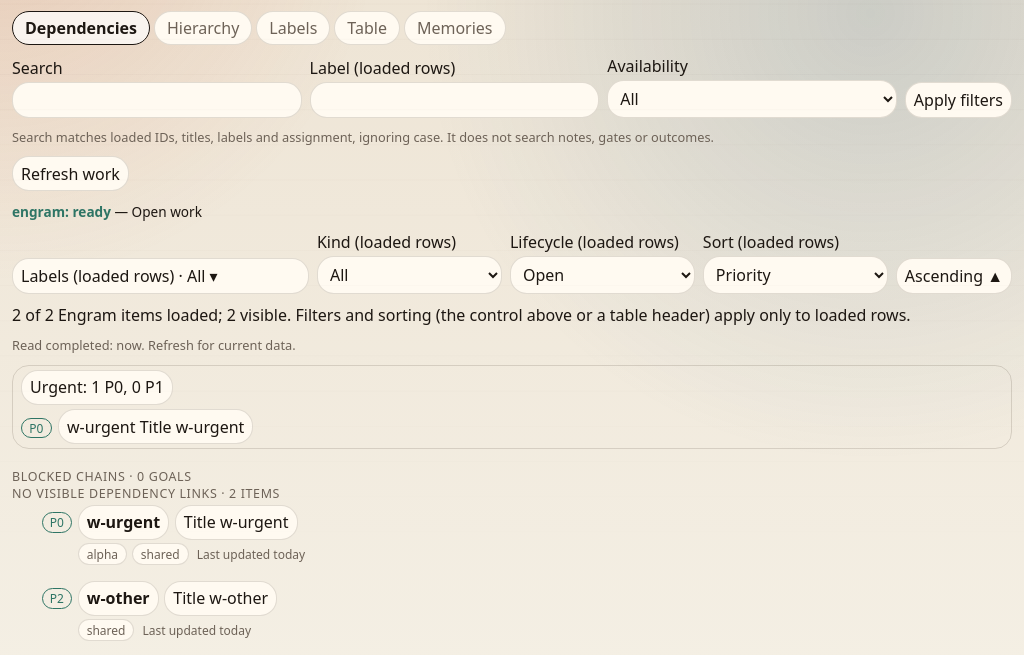
Test: Urgent strip reveal of hidden rows › expands the item's label group after Collapse all labels and opens its details there
Step 1. Click the button "Labels" → (293,28), box [256,11,330,45]
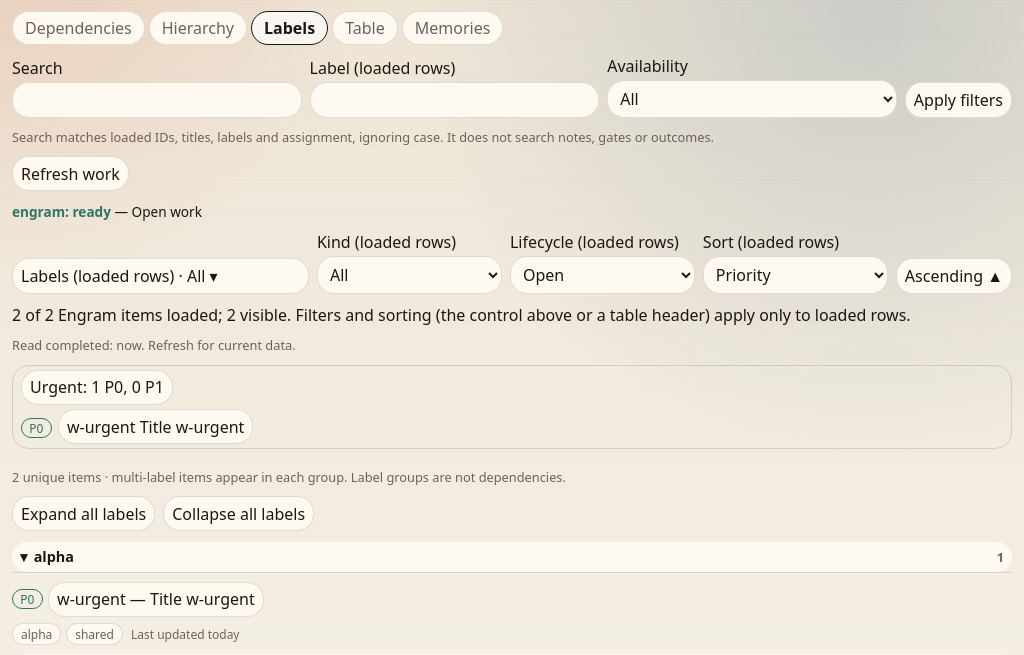
Step 2. Click the button "Collapse all labels" → (239,514), box [163,496,314,531]
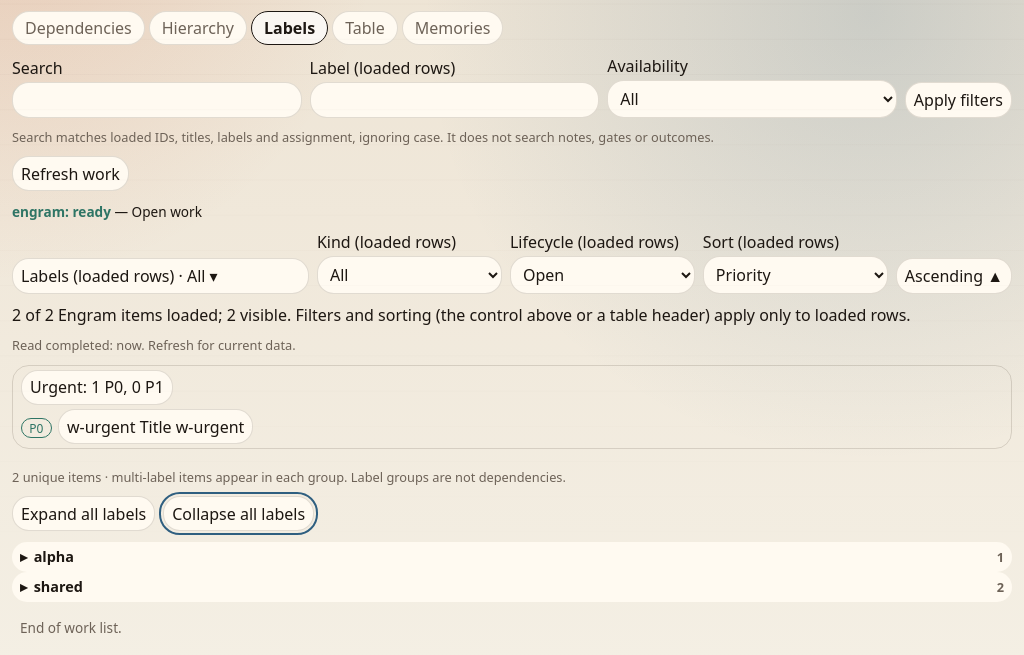
expect the button "w-urgent — Title w-urgent" is gone: met
Step 3. Click the button "w-urgent Title w-urgent" → (156,427), box [58,409,253,444]
(page scrolled)
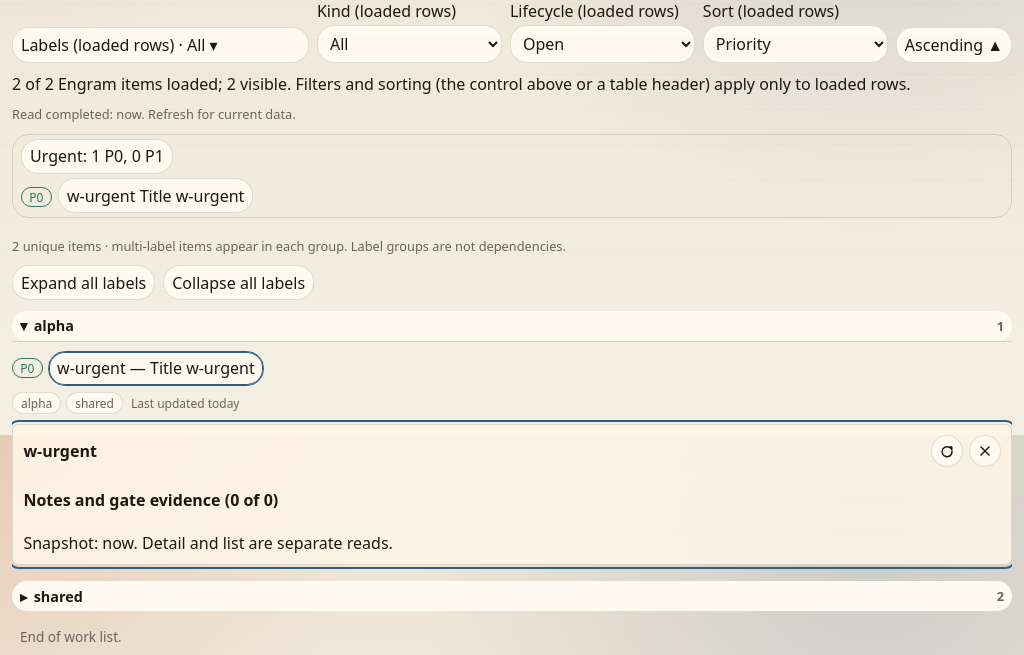
expect the element named "Work item details" is shown: met, box [12,424,1012,565]
